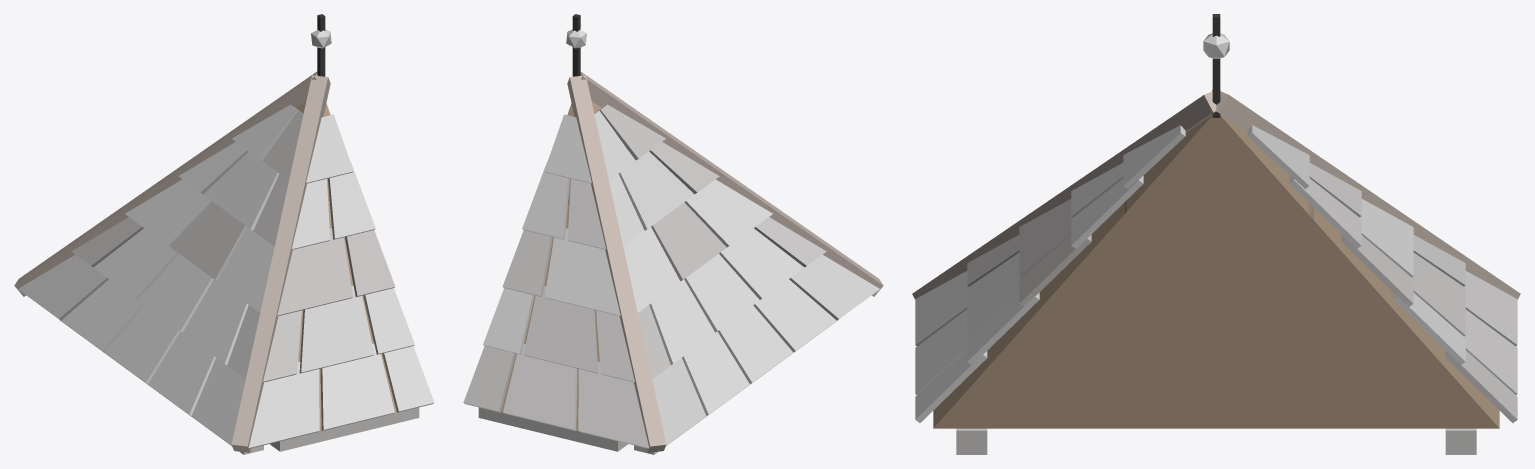
The model's file is Kit_RealTower_CrRfB_Fractured.fbx.
3 views of the same model, side by side, from view 1: azimuth 30°, elevation 25°; view 2: azimuth 150°, elevation 25°; view 3: azimuth 270°, elevation 25° (orthographic). The views are drawn at different scales.
Visible parts, largest first — view 1: Kit_RealTower_CrRfB_frag_15, Kit_RealTower_CrRfB_frag_02, Kit_RealTower_CrRfB_frag_08, Kit_RealTower_CrRfB_frag_10, Kit_RealTower_CrRfB_frag_01, Kit_RealTower_CrRfB_frag_16, Kit_RealTower_CrRfB_frag_12, Kit_RealTower_CrRfB_frag_13, Kit_RealTower_CrRfB_frag_11, Kit_RealTower_CrRfB_frag_09, Kit_RealTower_CrRfB_frag_14, Kit_RealTower_CrRfB_frag_04; view 2: Kit_RealTower_CrRfB_frag_13, Kit_RealTower_CrRfB_frag_06, Kit_RealTower_CrRfB_frag_08, Kit_RealTower_CrRfB_frag_10, Kit_RealTower_CrRfB_frag_05, Kit_RealTower_CrRfB_frag_14, Kit_RealTower_CrRfB_frag_07, Kit_RealTower_CrRfB_frag_15, Kit_RealTower_CrRfB_frag_11, Kit_RealTower_CrRfB_frag_09, Kit_RealTower_CrRfB_frag_16, Kit_RealTower_CrRfB_frag_04 (+1 smaller); view 3: Kit_RealTower_CrRfB_frag_03, Kit_RealTower_CrRfB_frag_01, Kit_RealTower_CrRfB_frag_05, Kit_RealTower_CrRfB_frag_04, Kit_RealTower_CrRfB_frag_02, Kit_RealTower_CrRfB_frag_06, Kit_RealTower_CrRfB_frag_13, Kit_RealTower_CrRfB_frag_15, Kit_RealTower_CrRfB_frag_12, Kit_RealTower_CrRfB_frag_07, Kit_RealTower_CrRfB_frag_14, Kit_RealTower_CrRfB_frag_16.
Boxes of the visible parts, x1,y1,x2,y2 form: Kit_RealTower_CrRfB_frag_15: [191, 262, 319, 452]; Kit_RealTower_CrRfB_frag_02: [253, 161, 395, 315]; Kit_RealTower_CrRfB_frag_08: [61, 254, 213, 383]; Kit_RealTower_CrRfB_frag_10: [148, 227, 274, 415]; Kit_RealTower_CrRfB_frag_01: [151, 250, 419, 454]; Kit_RealTower_CrRfB_frag_16: [262, 75, 353, 266]; Kit_RealTower_CrRfB_frag_12: [320, 343, 434, 430]; Kit_RealTower_CrRfB_frag_13: [14, 178, 171, 386]; Kit_RealTower_CrRfB_frag_11: [171, 151, 279, 281]; Kit_RealTower_CrRfB_frag_09: [93, 179, 213, 299]; Kit_RealTower_CrRfB_frag_14: [160, 71, 317, 194]; Kit_RealTower_CrRfB_frag_04: [232, 14, 331, 194]; Kit_RealTower_CrRfB_frag_13: [478, 262, 744, 454]; Kit_RealTower_CrRfB_frag_06: [502, 161, 620, 315]; Kit_RealTower_CrRfB_frag_08: [682, 254, 793, 415]; Kit_RealTower_CrRfB_frag_10: [684, 179, 836, 352]; Kit_RealTower_CrRfB_frag_05: [483, 250, 599, 430]; Kit_RealTower_CrRfB_frag_14: [544, 75, 644, 266]; Kit_RealTower_CrRfB_frag_07: [463, 343, 577, 430]; Kit_RealTower_CrRfB_frag_15: [726, 178, 883, 320]; Kit_RealTower_CrRfB_frag_11: [618, 151, 726, 281]; Kit_RealTower_CrRfB_frag_09: [623, 227, 715, 364]; Kit_RealTower_CrRfB_frag_16: [580, 71, 737, 185]; Kit_RealTower_CrRfB_frag_04: [566, 14, 635, 194]; Kit_RealTower_CrRfB_frag_03: [1125, 200, 1313, 428]; Kit_RealTower_CrRfB_frag_01: [933, 253, 1124, 454]; Kit_RealTower_CrRfB_frag_05: [1313, 253, 1499, 428]; Kit_RealTower_CrRfB_frag_04: [1126, 14, 1306, 211]; Kit_RealTower_CrRfB_frag_02: [1019, 163, 1143, 306]; Kit_RealTower_CrRfB_frag_06: [1289, 163, 1413, 306]; Kit_RealTower_CrRfB_frag_13: [1368, 197, 1520, 454]; Kit_RealTower_CrRfB_frag_15: [912, 197, 1064, 346]; Kit_RealTower_CrRfB_frag_12: [915, 309, 987, 422]; Kit_RealTower_CrRfB_frag_07: [1445, 309, 1517, 422]; Kit_RealTower_CrRfB_frag_14: [1212, 90, 1378, 201]; Kit_RealTower_CrRfB_frag_16: [1054, 90, 1220, 201].
Size of what is drawn, in the model's own units: 1.43 by 2.18 by 2.74.
